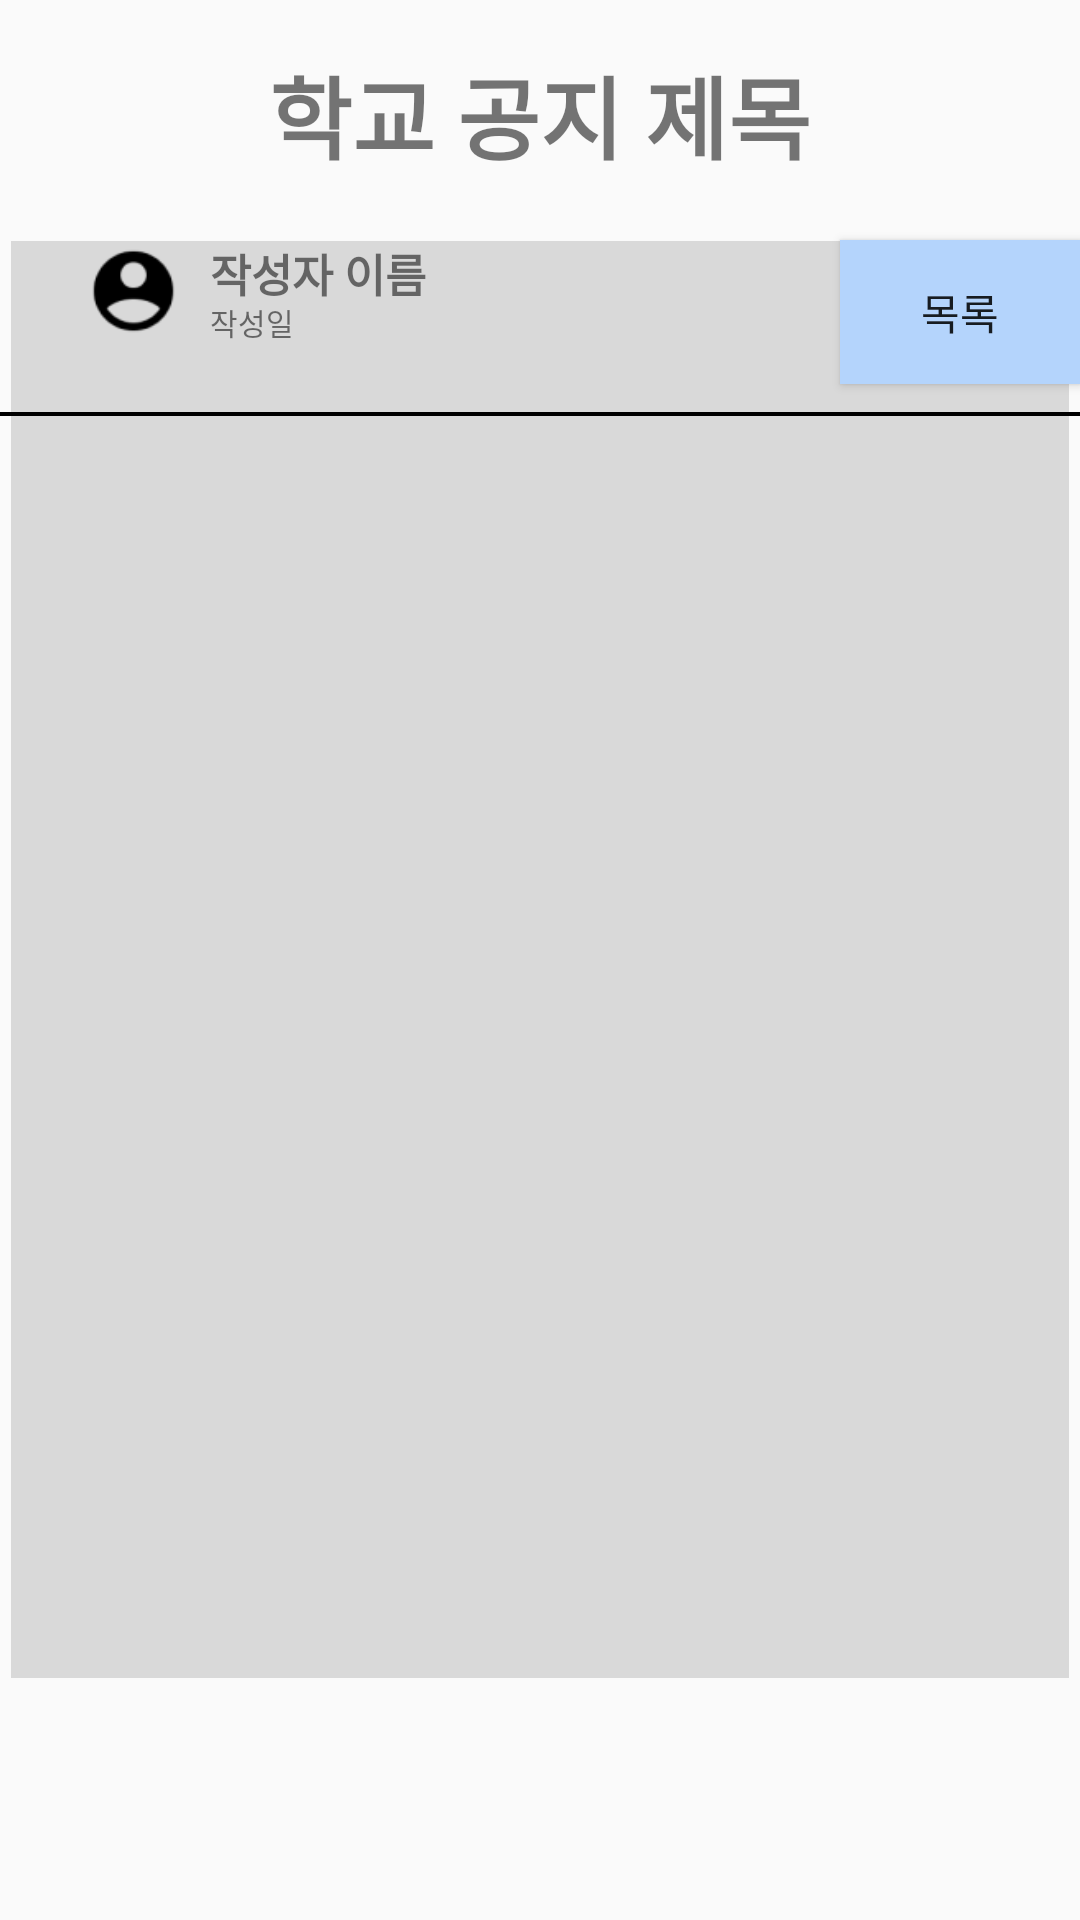

Screen size 1080 × 1920. Icon name, then its box in pixels as rect(x1, y1, x2, y2):
user: rect(93, 251, 174, 331)
